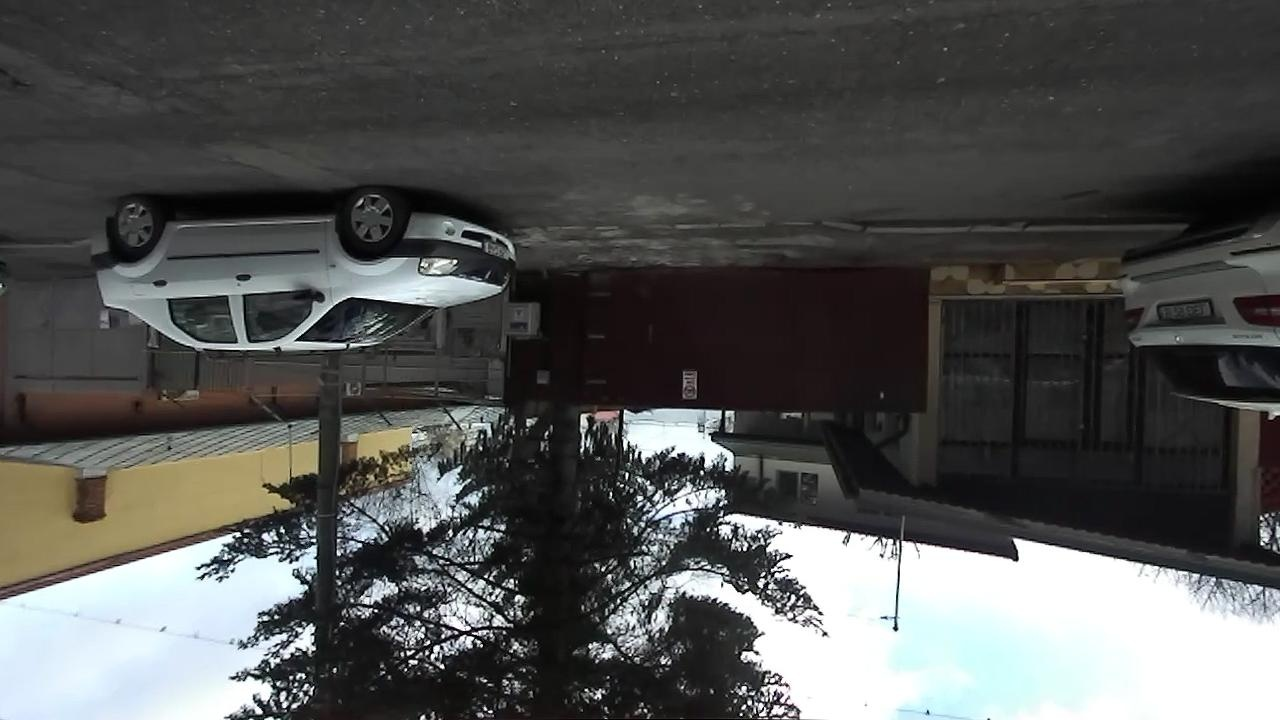pothole: (0, 60, 33, 95)
